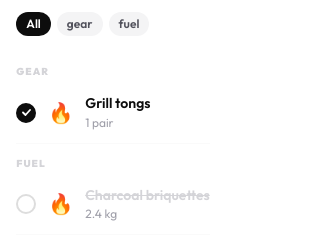
Test: ItemsList › filters items by category via the filter chips
Click the button "fuel" at (129, 24), box [108,12,149,36]
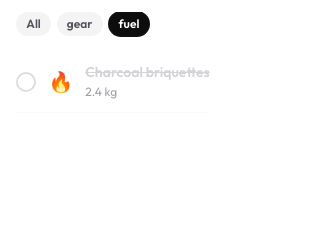
expect the text "Charcoal briquettes" is shown: met, box [85,64,210,82]
expect the text "Grill tongs" is gone: met
